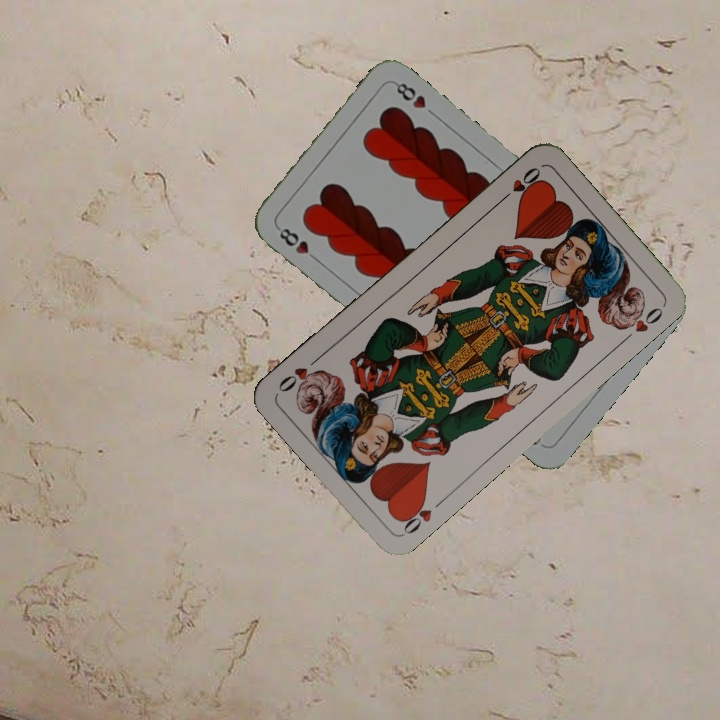H8: (273, 222, 322, 265)
HO: (394, 493, 448, 538), (494, 163, 543, 206)
